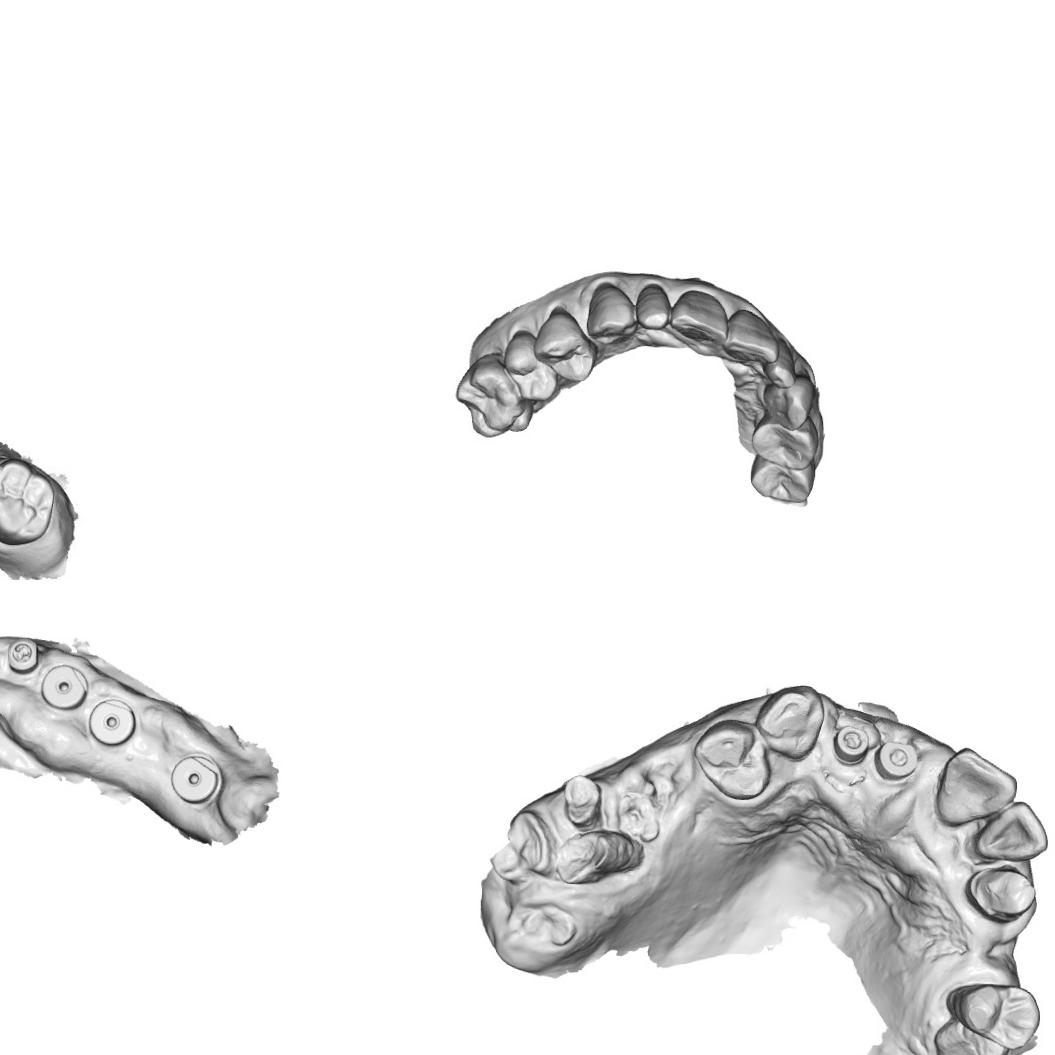canine: (752, 682, 826, 763), (582, 280, 640, 348), (760, 373, 818, 431)
implant: (167, 753, 225, 806), (40, 662, 90, 711), (87, 698, 137, 746), (872, 738, 922, 782), (832, 721, 872, 764), (4, 637, 43, 676)
incisor: (934, 744, 1026, 829), (974, 800, 1051, 863), (667, 288, 728, 350), (720, 307, 780, 365), (760, 336, 798, 390), (634, 280, 672, 332)
molar: (453, 351, 535, 440), (0, 458, 60, 542)
premolar: (948, 981, 1043, 1052), (692, 717, 770, 803), (531, 306, 598, 384), (748, 414, 821, 472), (502, 329, 559, 403), (747, 453, 814, 504)
